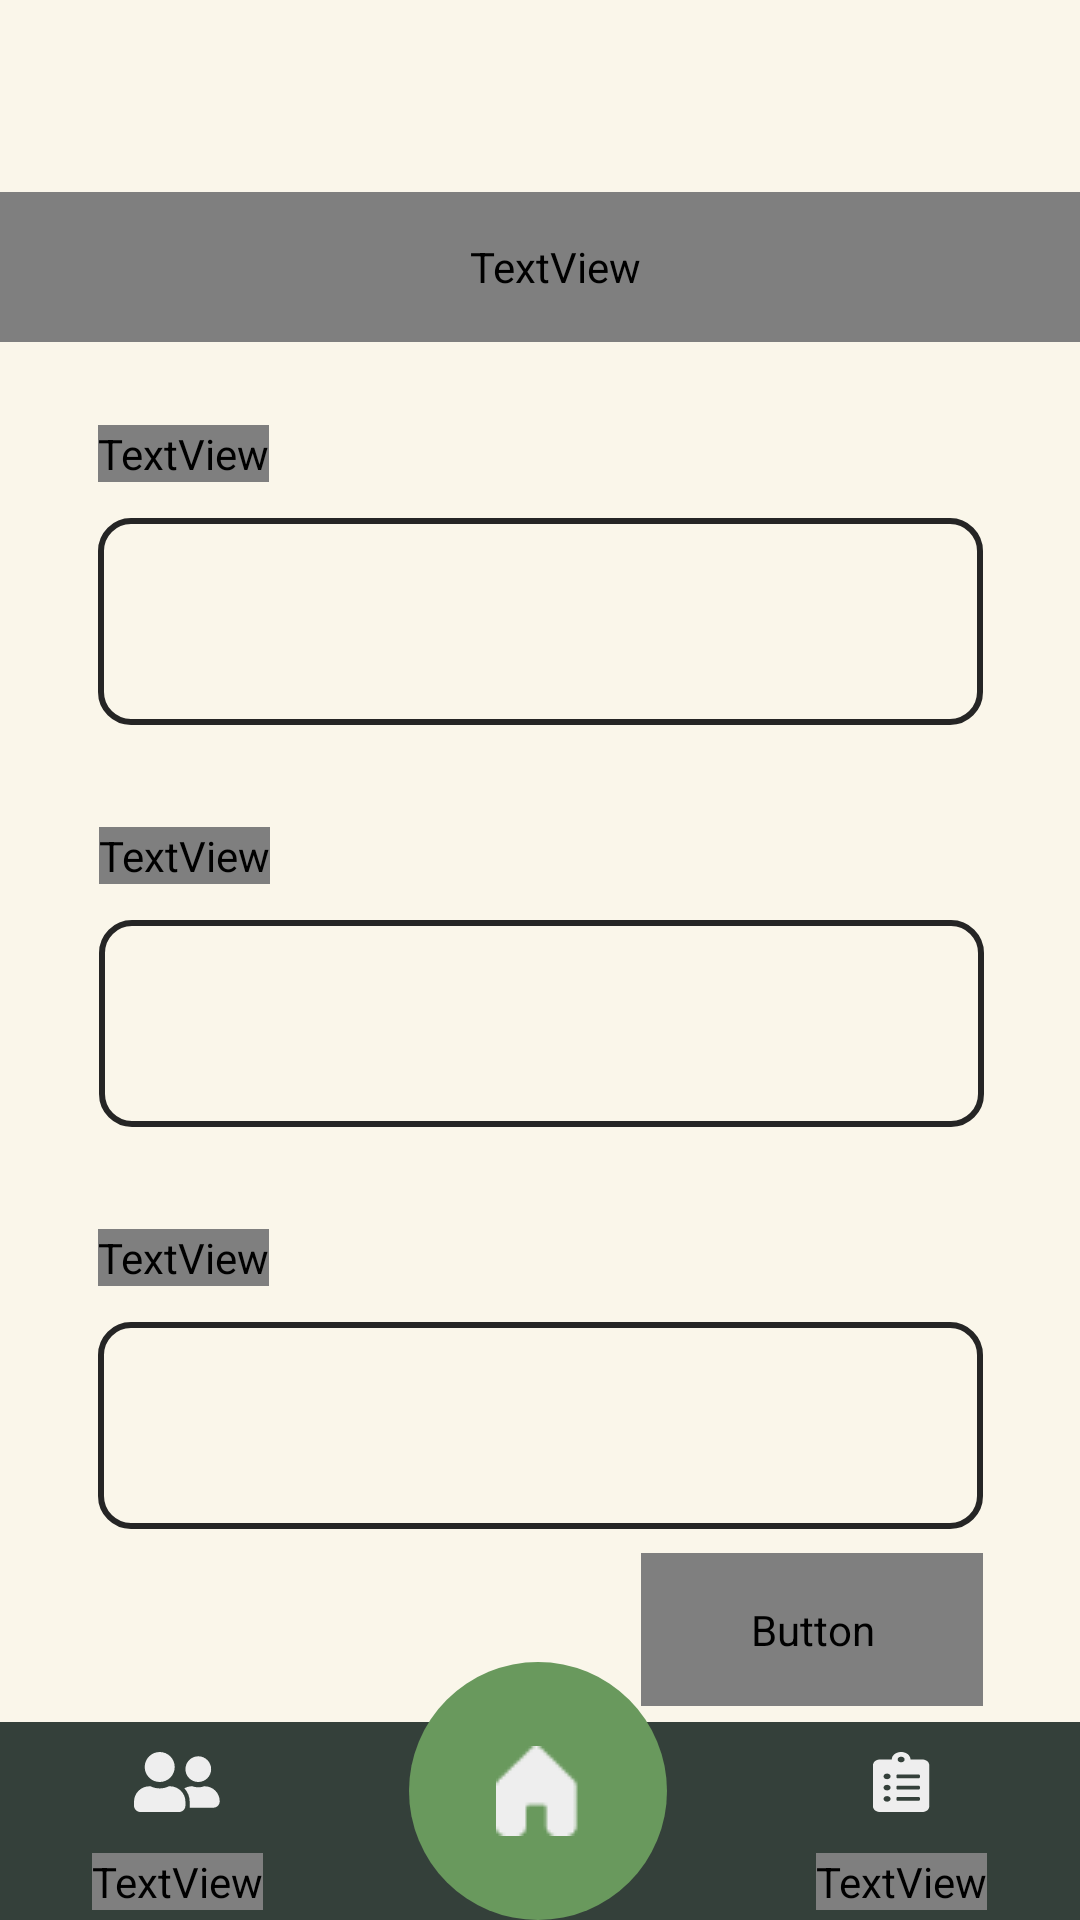

Named icons in this screenshot (1080px×1920px) and their centers, (x=x, y=y):
register: (x=901, y=1782)
users: (x=177, y=1782)
